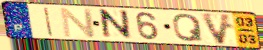6: (135, 11, 161, 41)
I: (43, 6, 55, 38)
N: (59, 7, 98, 38), (100, 8, 134, 41)
Q: (171, 13, 205, 43)
V: (199, 11, 234, 46)
